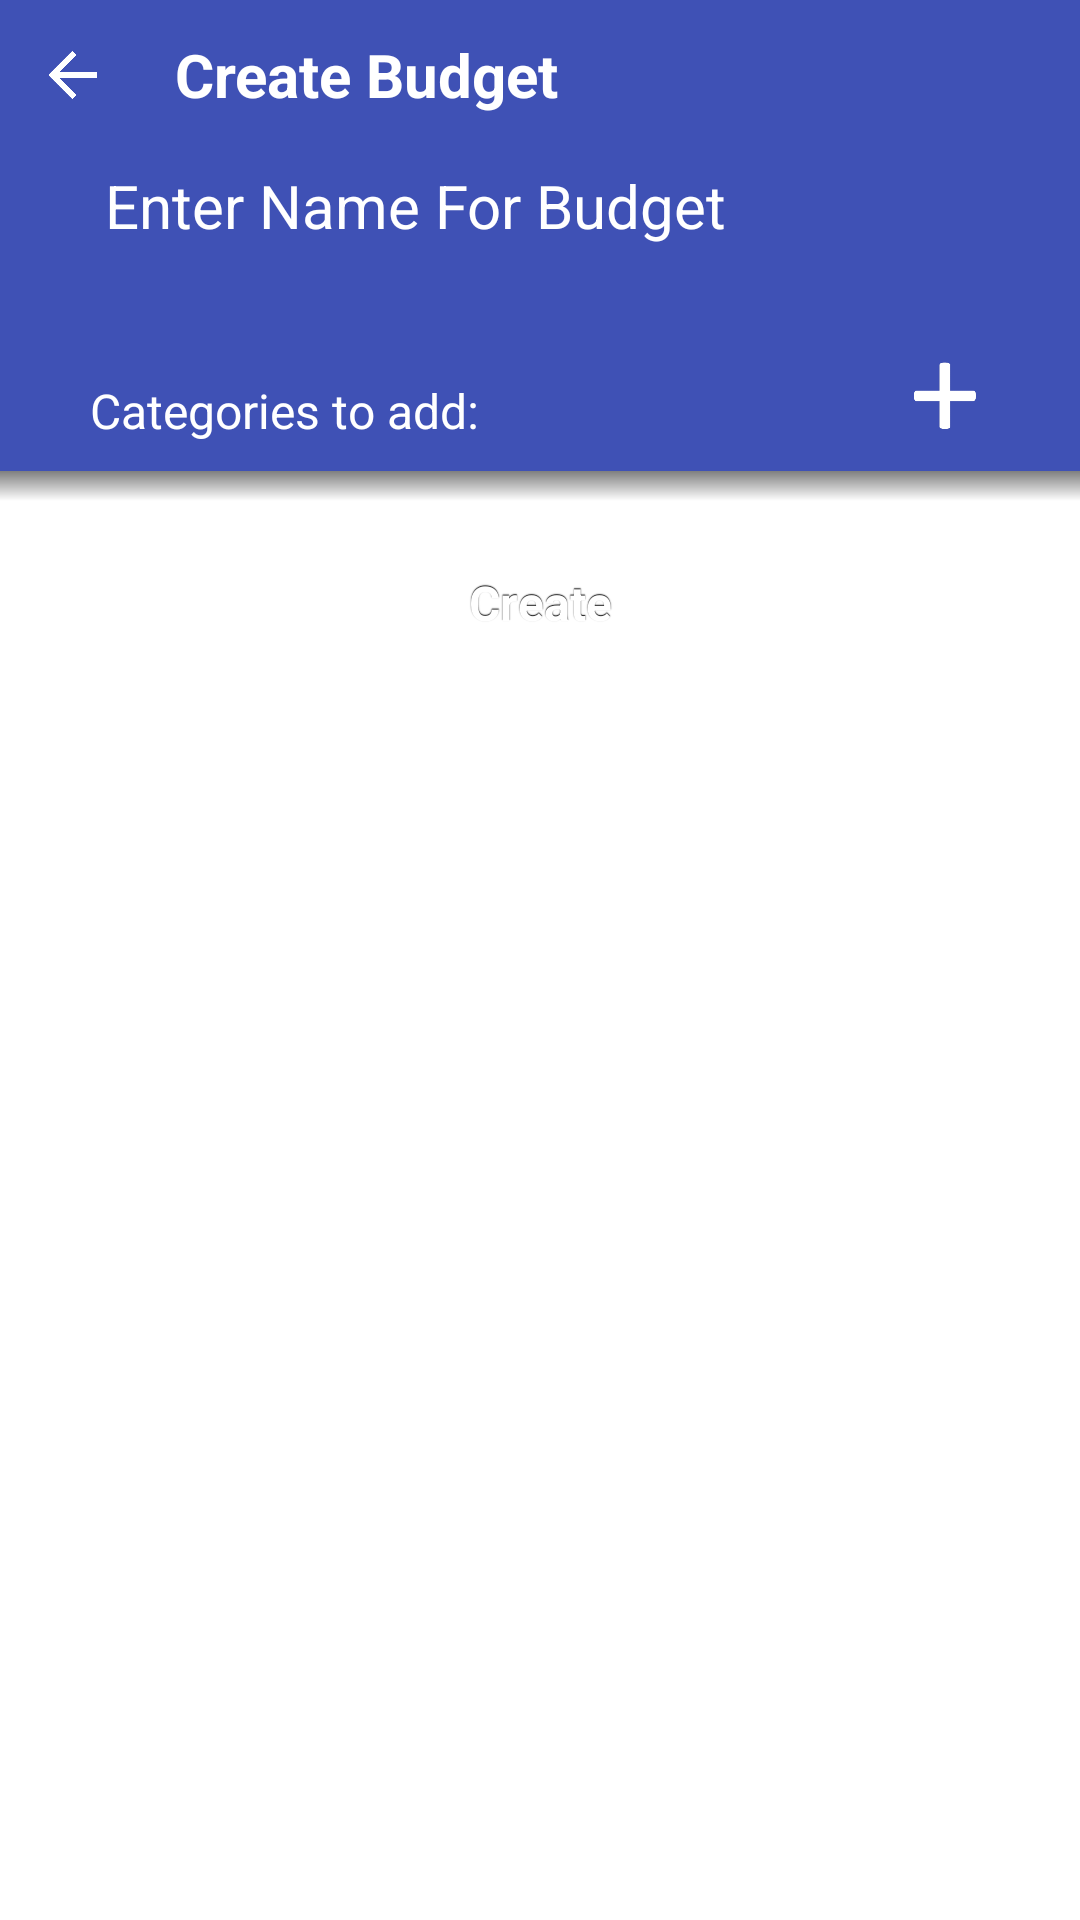

Where to tap for icons on this 1080×1920 app screen, as (x,y):
add: (945,395)
back: (73,75)
